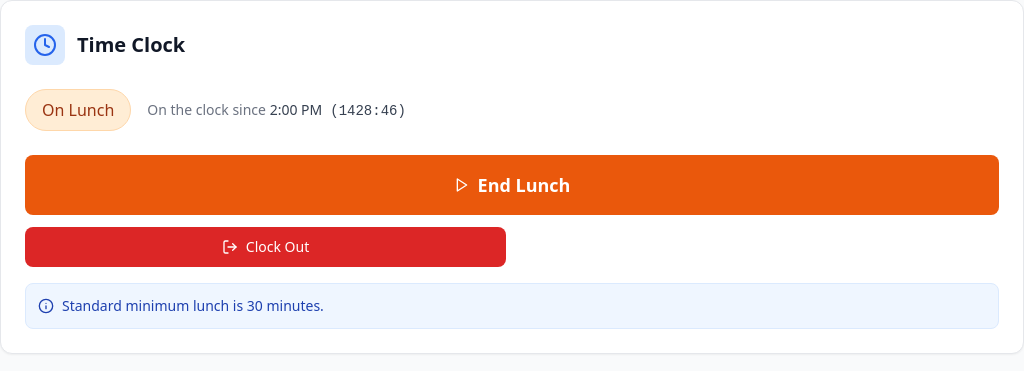
Scenario: TimeClock — actions dispatch the right endpoint and re-render from the result › ON_LUNCH → End Lunch returns to ON_CLOCK
Step 1. Click the button "End Lunch" → (512, 185), box [25,155,999,215]
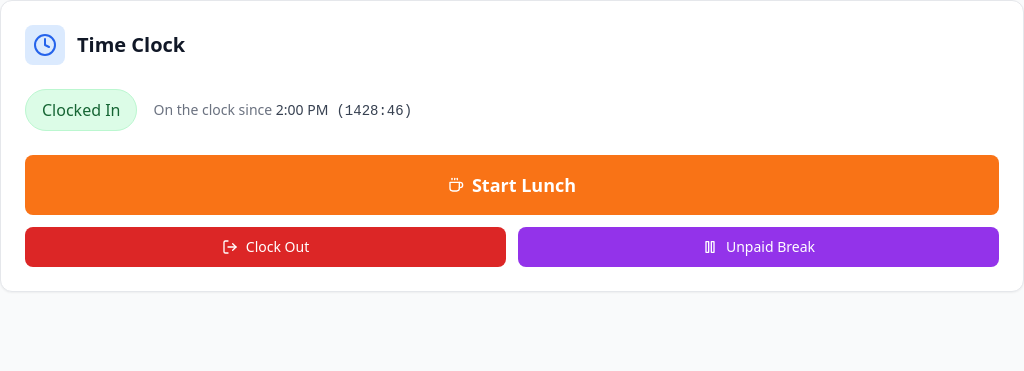
Now the button "Start Lunch" is shown, box [25,155,999,215]
